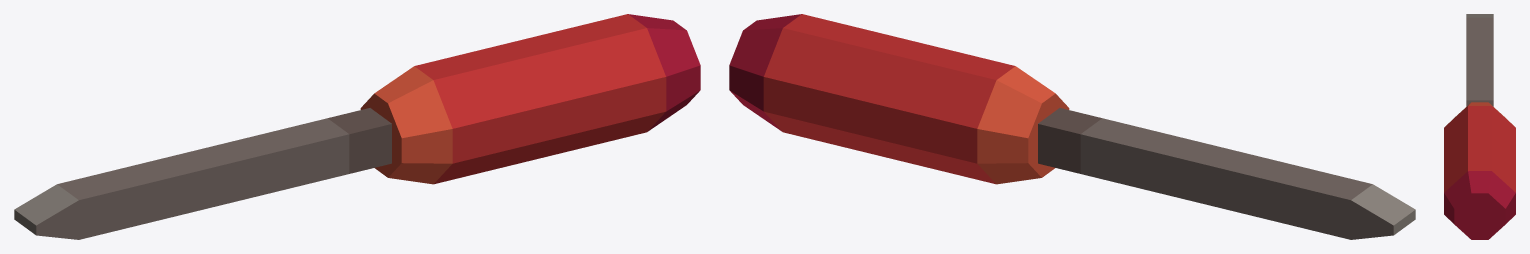
The model's file is screwdriver.fbx.
3 views of the same model, side by side, from view 1: azimuth 30°, elevation 25°; view 2: azimuth 150°, elevation 25°; view 3: azimuth 270°, elevation 25° (orthographic). The views are drawn at different scales.
Visible parts, largest first — view 1: driver, screw; view 2: driver, screw; view 3: driver, screw.
Part boxes in pixels (<box>): driver: <box>360,14,700,184</box>; screw: <box>14,108,391,239</box>; driver: <box>729,14,1069,184</box>; screw: <box>1038,108,1415,239</box>; driver: <box>1444,102,1515,239</box>; screw: <box>1466,14,1493,106</box>.
Bounding box in the file's own units: 144 × 21.88 × 21.88.
Materials: 1 (1 with a texture image).
